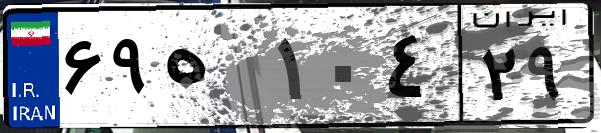0: (330, 28, 385, 110)
1: (270, 28, 330, 110)
2: (475, 38, 525, 113)
4: (385, 28, 445, 110)
6: (57, 26, 110, 100)
9: (525, 38, 570, 115), (110, 28, 158, 98)
ه: (158, 20, 270, 120)
